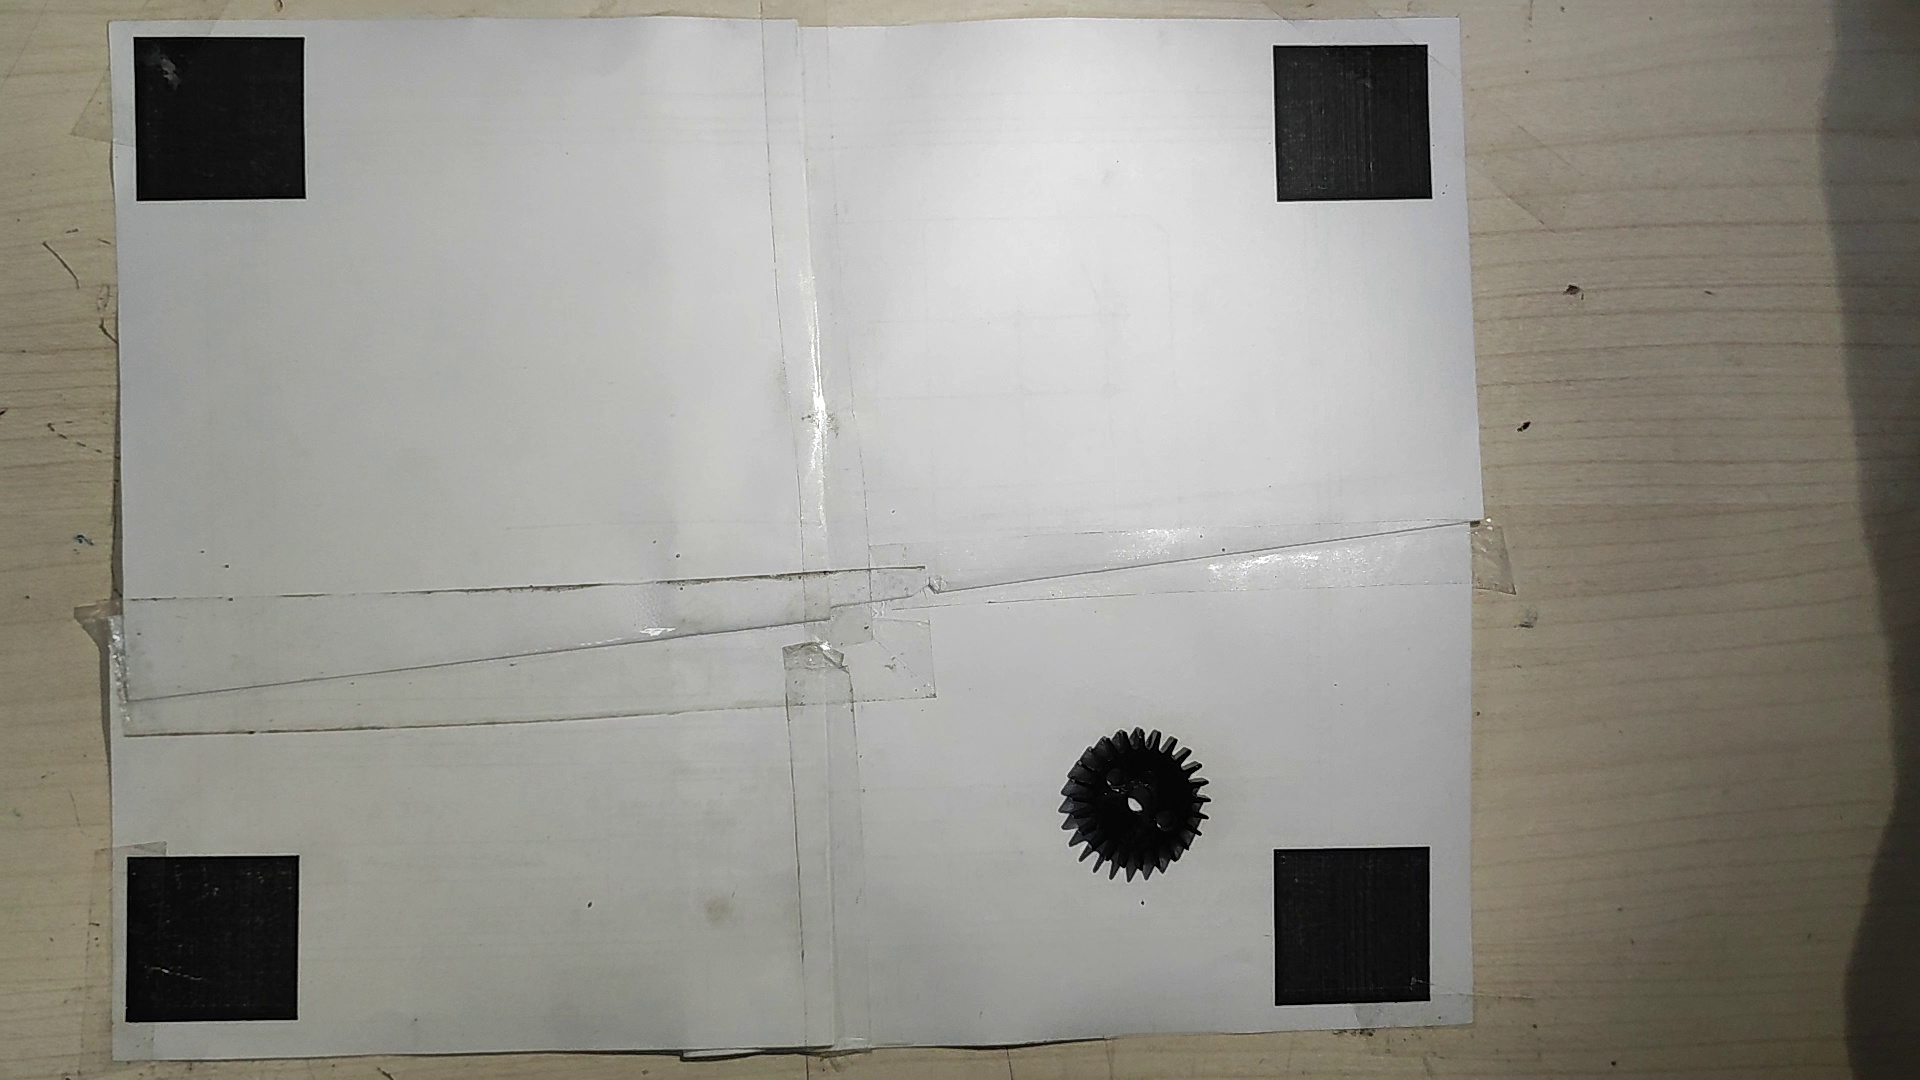Gear: (1055, 725, 1207, 889)
